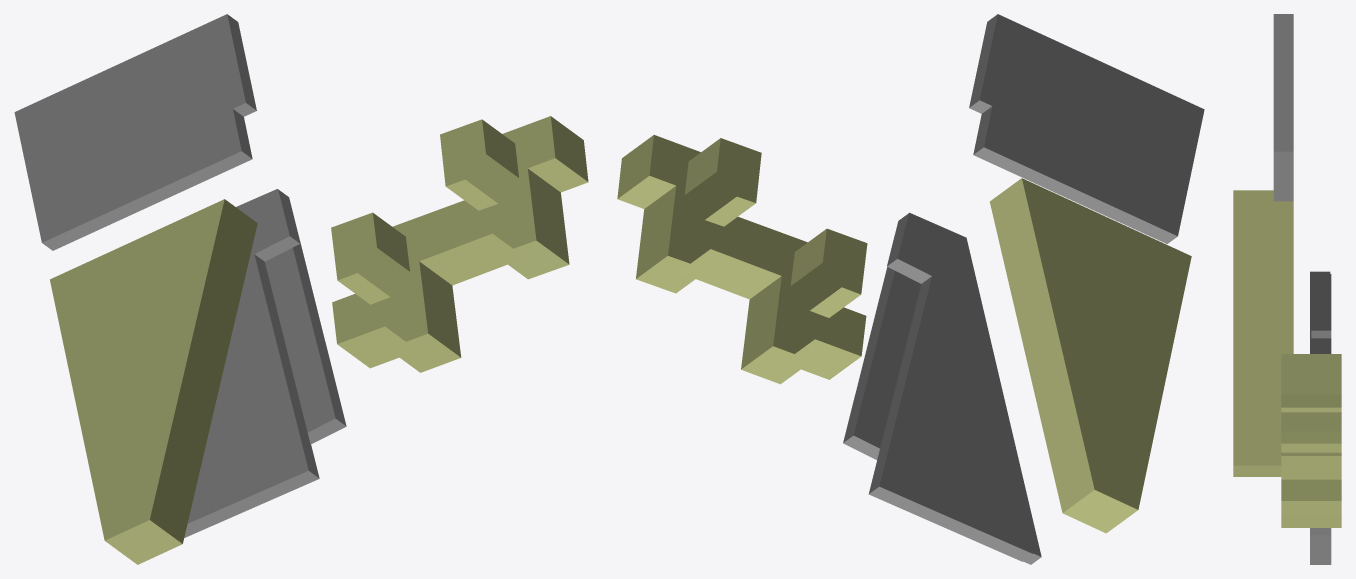
3 renders of one model, left to right at view 1: azimuth 30°, elevation 25°; view 2: azimuth 150°, elevation 25°; view 3: azimuth 270°, elevation 25°, orthographic. The views are drawn at different scales.
Visible parts, largest first — view 1: 0_1_3_2_1_2_3_2; view 2: 0_1_3_2_1_2_3_2; view 3: 0_1_3_2_1_2_3_2.
Part boxes in pixels (x1=…): 0_1_3_2_1_2_3_2: x1=14, y1=14, x2=588, y2=564; 0_1_3_2_1_2_3_2: x1=617, y1=14, x2=1204, y2=564; 0_1_3_2_1_2_3_2: x1=1233, y1=14, x2=1341, y2=564.
Bounding box in the file's own units: 89.1 × 79.34 × 16.15.
